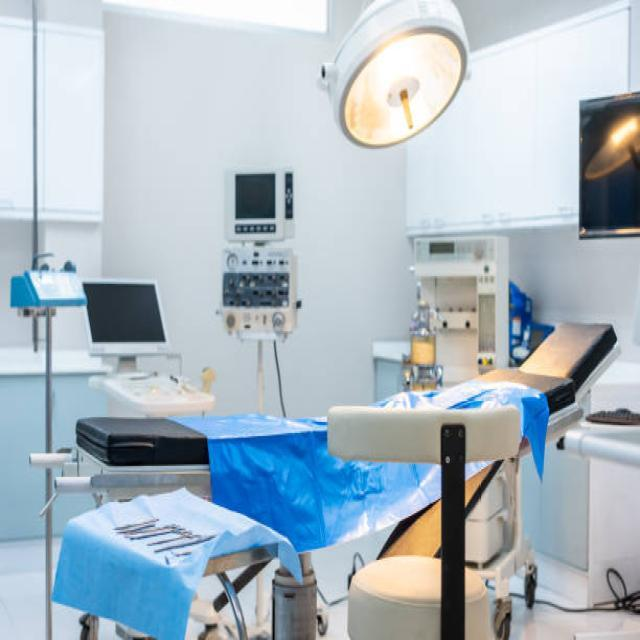Monitor: (227, 156, 300, 350), (78, 271, 186, 377)
bed: (31, 301, 616, 640)
chair: (305, 383, 532, 640)
tools_table: (46, 493, 311, 640)
